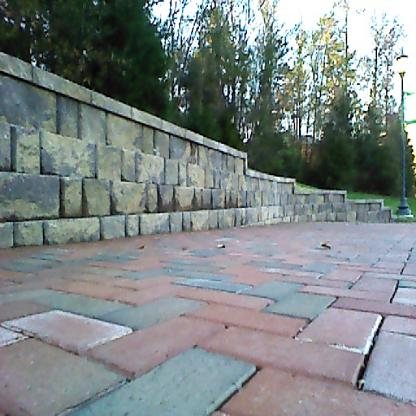Edge: (0, 206, 414, 274)
Sidewalk: (0, 222, 416, 416)
